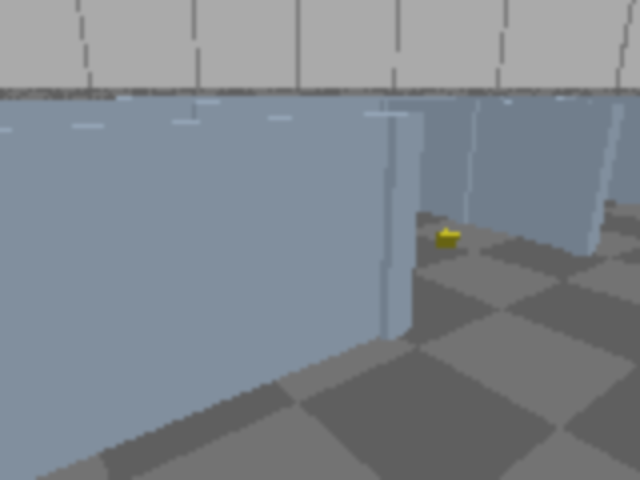puck: (437, 230, 458, 249)
